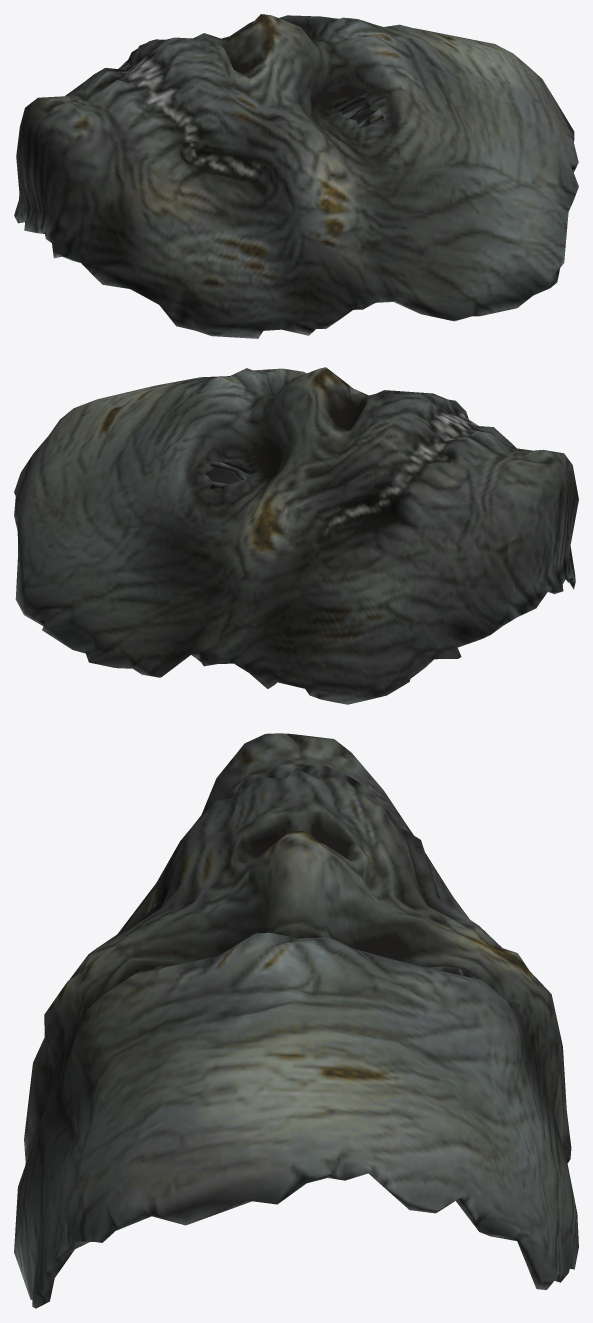
File: DecrepitMask_Ground.fbx
3 renders of one model, top to bottom at view 1: azimuth 30°, elevation 25°; view 2: azimuth 150°, elevation 25°; view 3: azimuth 270°, elevation 25°, orthographic. The views are drawn at different scales.
Visible parts, largest first — view 1: Mask12; view 2: Mask12; view 3: Mask12.
Boxes of the visible parts, <box> form: Mask12: <box>14,14,578,338</box>; Mask12: <box>14,367,578,704</box>; Mask12: <box>14,733,578,1308</box>.
Bounding box in the file's own units: 0.1564 × 0.0765 × 0.1081.
